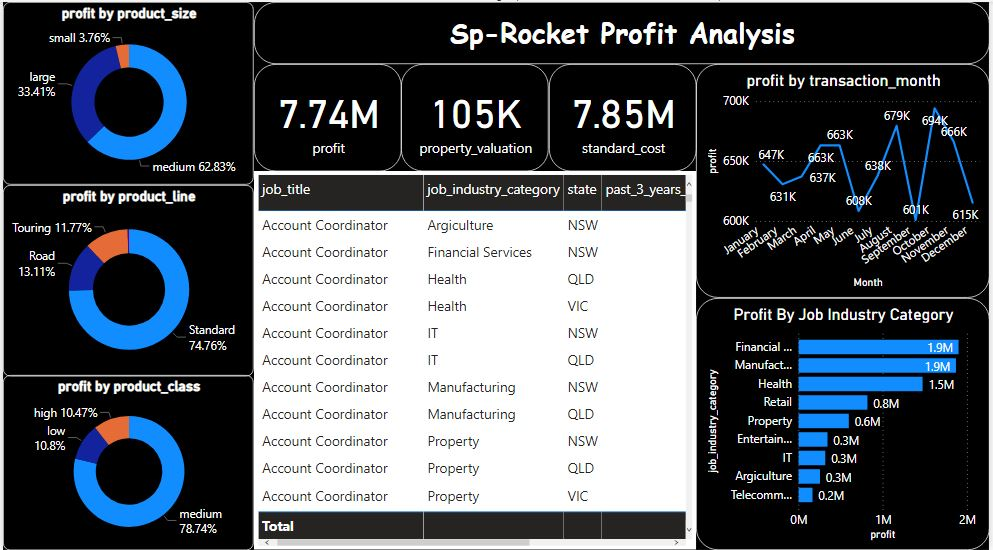

The page's visual inventory and layout, read from the dashboard file:
{"tool":"powerbi","page":{"name":"sp_rocket_report","canvas":[1350,750],"ordinal":0},"visuals":[{"type":"textbox","box":[343.3,0,1006.7,85],"z":0},{"type":"donutChart","fields":{"Y":["Sum(CombinedCustomerInfo.profit)"],"Category":["CombinedCustomerInfo.product_class"]},"box":[0,510,343.3,240],"z":1000},{"type":"donutChart","fields":{"Y":["Sum(CombinedCustomerInfo.profit)"],"Category":["CombinedCustomerInfo.product_line"]},"box":[0,250,343.3,261.7],"z":2000},{"type":"donutChart","fields":{"Y":["Sum(CombinedCustomerInfo.profit)"],"Category":["CombinedCustomerInfo.product_size"]},"box":[0,0,343.3,250],"z":3000},{"type":"barChart","title":"Profit By Job Industry Category","fields":{"Category":["CombinedCustomerInfo.job_industry_category"],"Y":["Sum(CombinedCustomerInfo.profit)"]},"box":[948.3,405,401.7,345],"z":4000},{"type":"lineChart","title":"profit by transaction_month","fields":{"Y":["Sum(CombinedCustomerInfo.profit)"],"Category":["CombinedCustomerInfo.transaction_date.Variation.Date Hierarchy.Quarter","CombinedCustomerInfo.transaction_date.Variation.Date Hierarchy.Month","CombinedCustomerInfo.transaction_date.Variation.Date Hierarchy.Day"]},"box":[948.3,85,401.7,320],"z":5000},{"type":"tableEx","fields":{"Values":["CombinedCustomerInfo.job_title","CombinedCustomerInfo.job_industry_category","CombinedCustomerInfo.state","Sum(CombinedCustomerInfo.past_3_years_bike_related_purchases)","Sum(CombinedCustomerInfo.profit)"]},"box":[343.3,231.7,605,518.3],"z":6000},{"type":"card","fields":{"Values":["Sum(CombinedCustomerInfo.profit)"]},"box":[343.3,85,201.7,146.7],"z":7000},{"type":"card","fields":{"Values":["Sum(CombinedCustomerInfo.property_valuation)"]},"box":[545,85,201.7,146.7],"z":8000},{"type":"card","fields":{"Values":["Sum(CombinedCustomerInfo.standard_cost)"]},"box":[746.7,85,201.7,146.7],"z":9000}]}

Visuals, with their boxes in screenshot pixels (x1, y1, x2, y2), scaled from the page's 1350x750 canvas onto the 993x550 screenshot:
textbox: 253 0 992 62
donutChart - Sum(CombinedCustomerInfo.profit) x CombinedCustomerInfo.product_class: 0 374 253 549
donutChart - Sum(CombinedCustomerInfo.profit) x CombinedCustomerInfo.product_line: 0 183 253 375
donutChart - Sum(CombinedCustomerInfo.profit) x CombinedCustomerInfo.product_size: 0 0 253 183
"Profit By Job Industry Category" barChart: 698 297 992 549
"profit by transaction_month" lineChart: 698 62 992 297
tableEx - CombinedCustomerInfo.job_title x CombinedCustomerInfo.job_industry_category: 253 170 698 549
card - Sum(CombinedCustomerInfo.profit): 253 62 401 170
card - Sum(CombinedCustomerInfo.property_valuation): 401 62 549 170
card - Sum(CombinedCustomerInfo.standard_cost): 549 62 698 170
